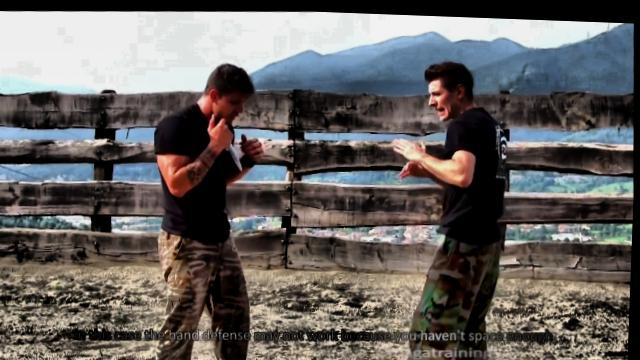knife: (209, 120, 246, 175)
